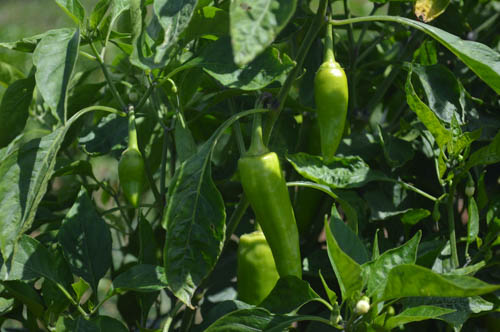ChiliPepper: (238, 156, 302, 281), (317, 67, 350, 160), (238, 235, 277, 306), (117, 150, 145, 206)
